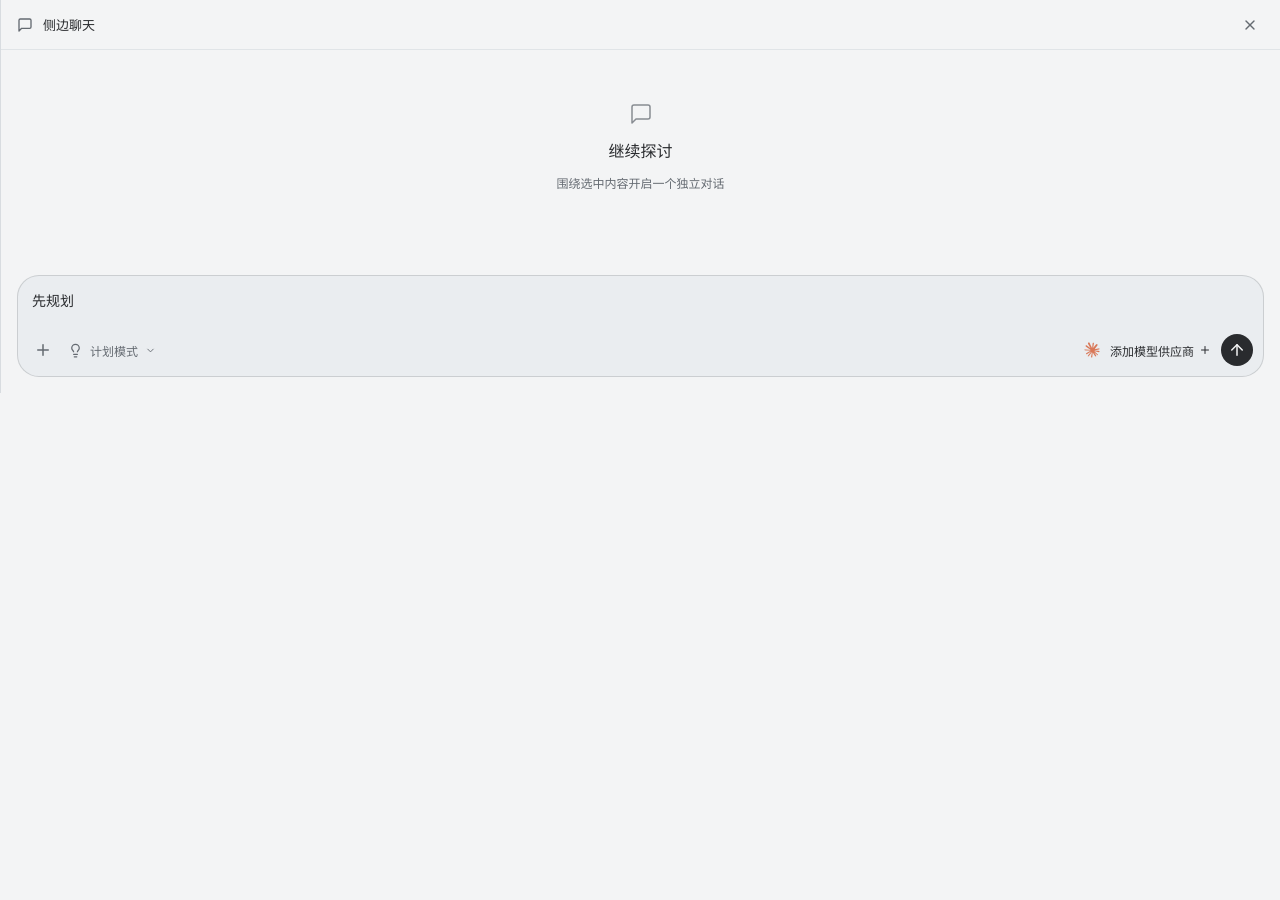
Scenario: restores full access when accepting a native Claude plan in the side chat
Submit the form, box [17, 275, 1264, 377]
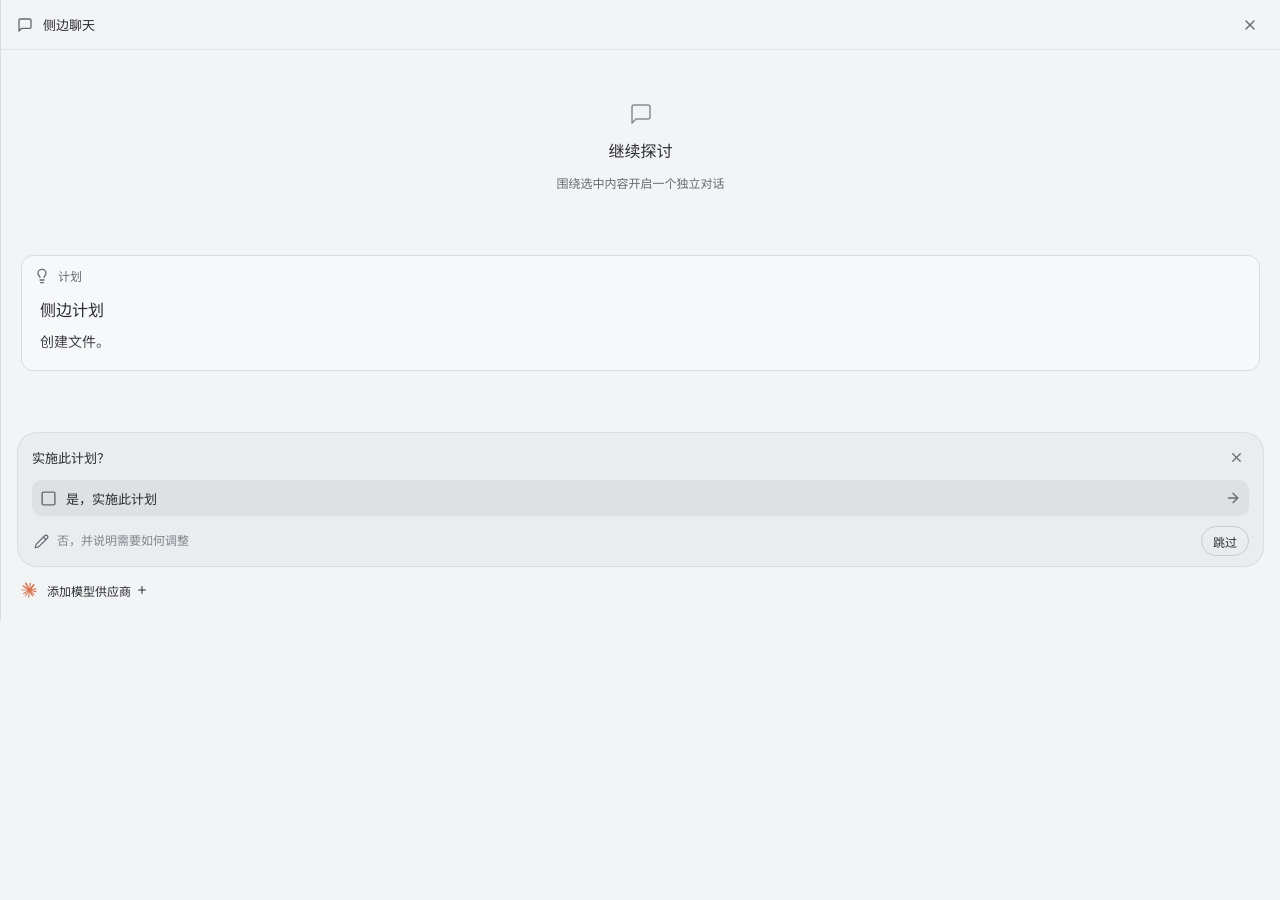
Click the button "是，实施此计划" at (112, 499), box [32, 480, 1249, 516]
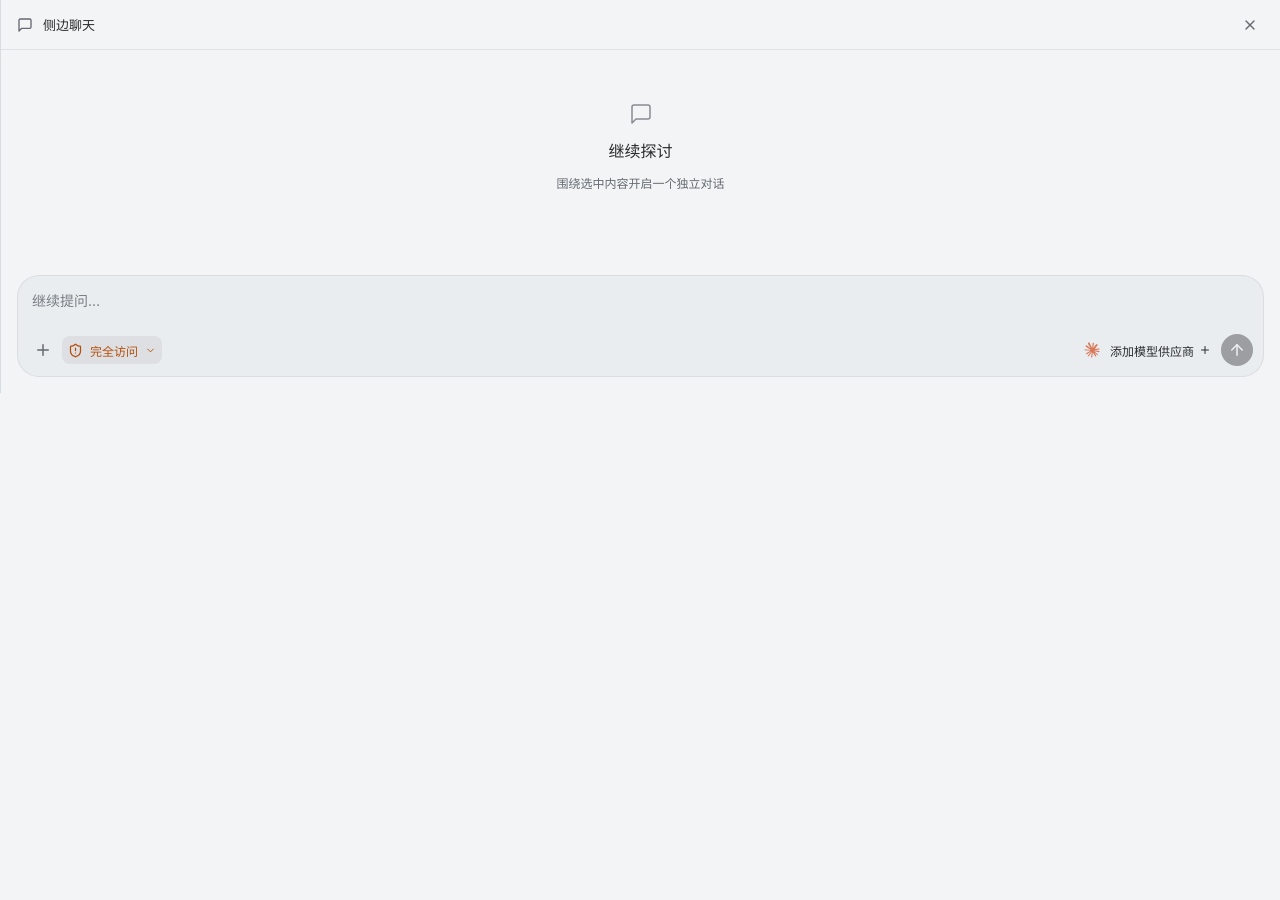
Result: the button with aria-label "侧边聊天权限模式" reads "完全访问" at [62, 336, 162, 364]
